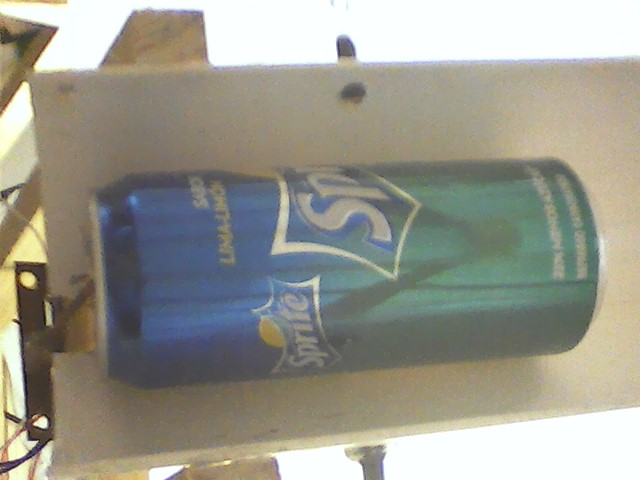lata: (82, 153, 616, 394)
